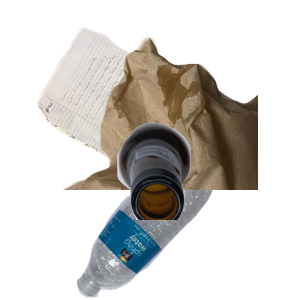glass: (115, 120, 300, 300)
paper: (35, 25, 232, 204)
plastic: (74, 156, 280, 300)
trash: (60, 35, 300, 215)
